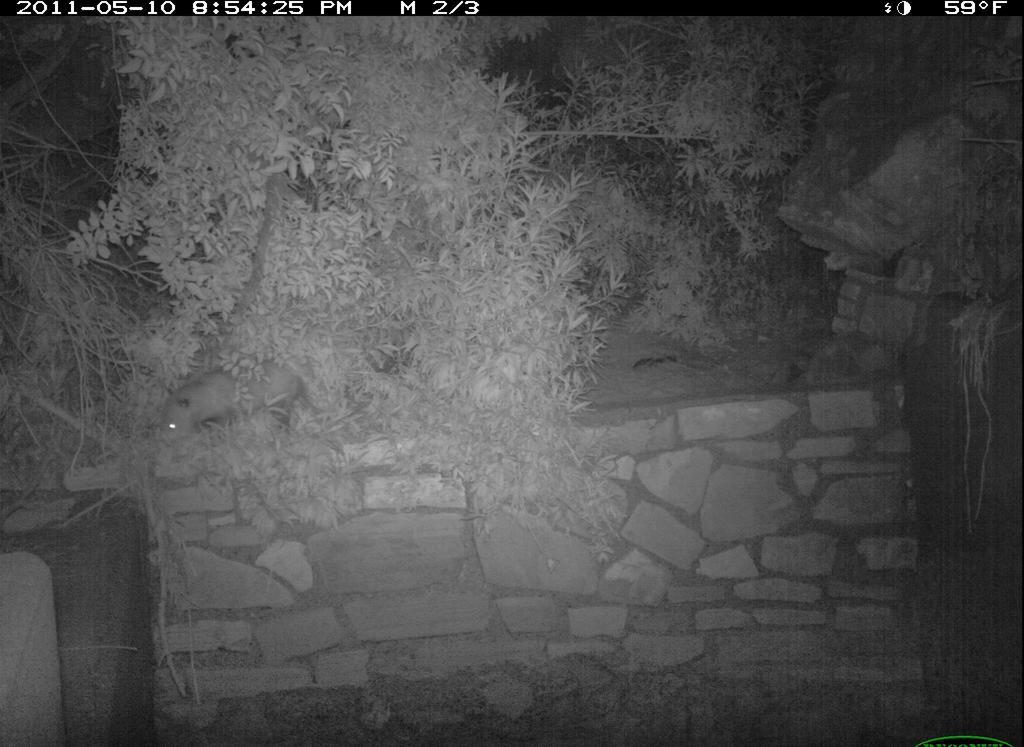opossum: (122, 346, 327, 470)
